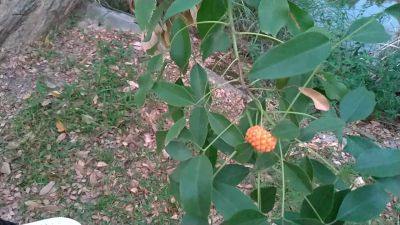eggs: (244, 124, 281, 153)
